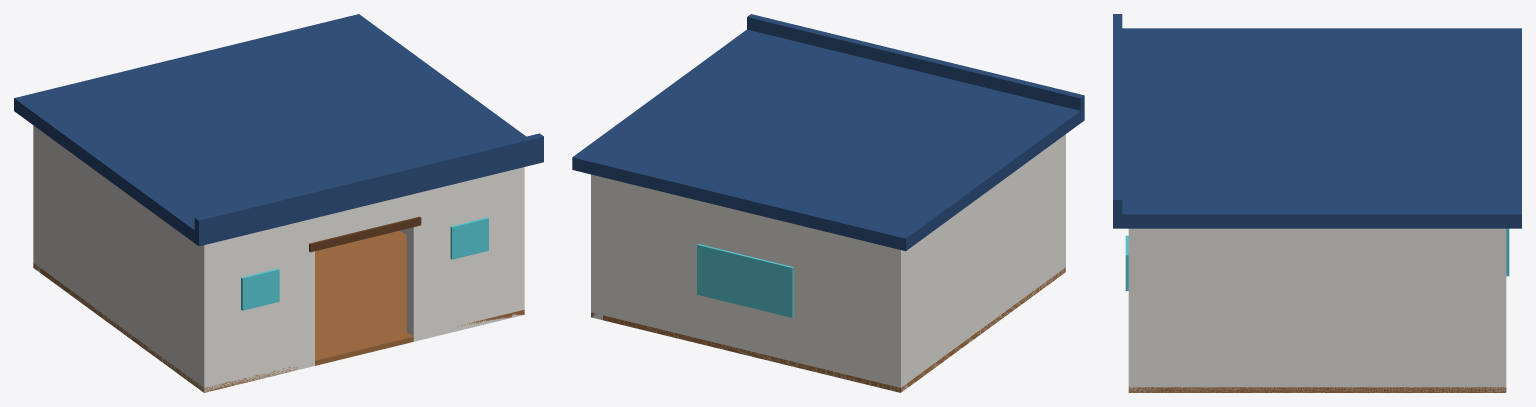
The model's file is mdl_casa_z3.fbx.
The picture shows the model from 3 angles, left to right: view 1: azimuth 30°, elevation 25°; view 2: azimuth 150°, elevation 25°; view 3: azimuth 270°, elevation 25°; orthographic projection. The views are drawn at different scales.
Visible parts, largest first — view 1: mdl_casa_z3; view 2: mdl_casa_z3; view 3: mdl_casa_z3.
Boxes of the visible parts, x1,y1,x2,y2 form: mdl_casa_z3: (14, 14, 543, 392); mdl_casa_z3: (572, 14, 1084, 392); mdl_casa_z3: (1113, 14, 1521, 392).
Size of the model in its own units: 2800 by 1400 by 2600.
